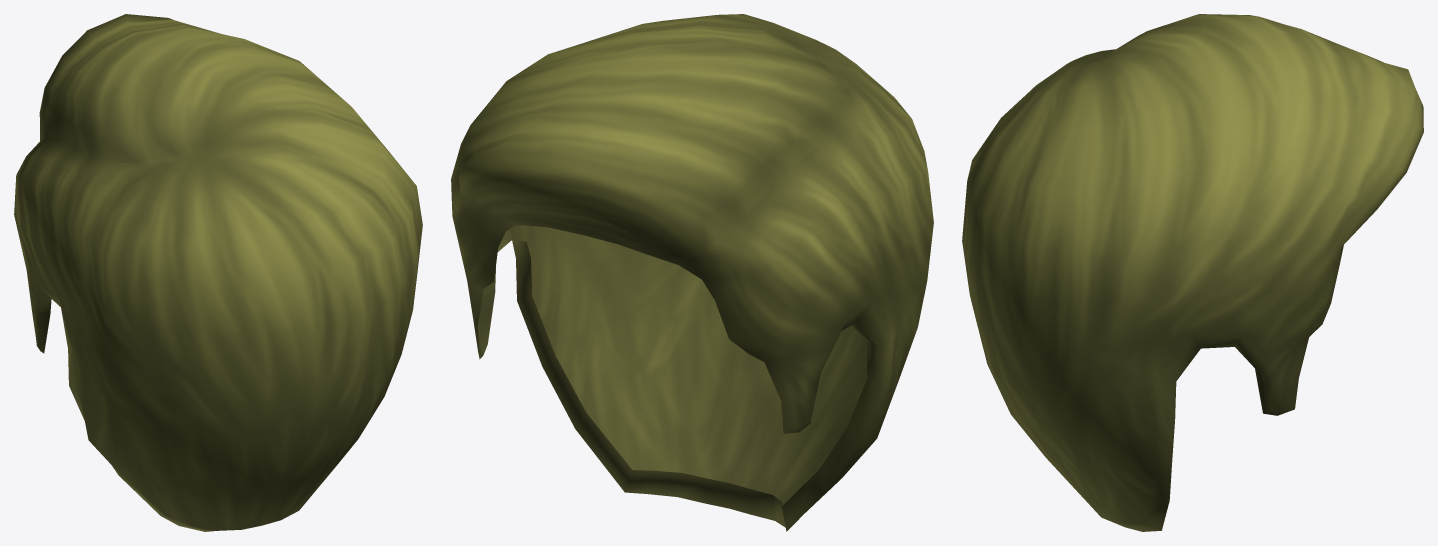
The model's file is Hair_Male_002_textured_yellow.glb.
The picture shows the model from 3 angles, left to right: view 1: azimuth 30°, elevation 25°; view 2: azimuth 150°, elevation 25°; view 3: azimuth 270°, elevation 25°; orthographic projection. The views are drawn at different scales.
Parts seen in each view (by area): view 1: Hair_Male_002; view 2: Hair_Male_002; view 3: Hair_Male_002.
Boxes of the visible parts, box(x1,y1,x2,y2) form: Hair_Male_002: box(14, 14, 422, 531); Hair_Male_002: box(451, 14, 933, 531); Hair_Male_002: box(962, 14, 1423, 531).
Bounding box in the file's own units: 0.1882 × 0.2415 × 0.2192.
Materials: 1 (1 with a texture image).
